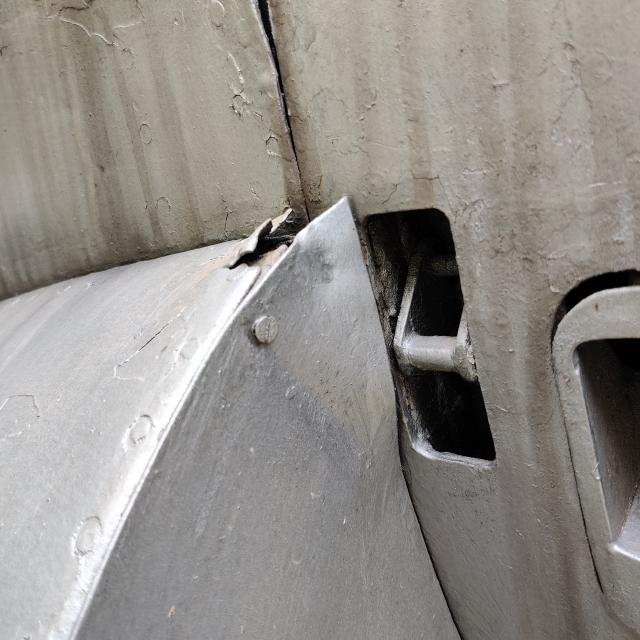crack: (209, 196, 314, 294)
